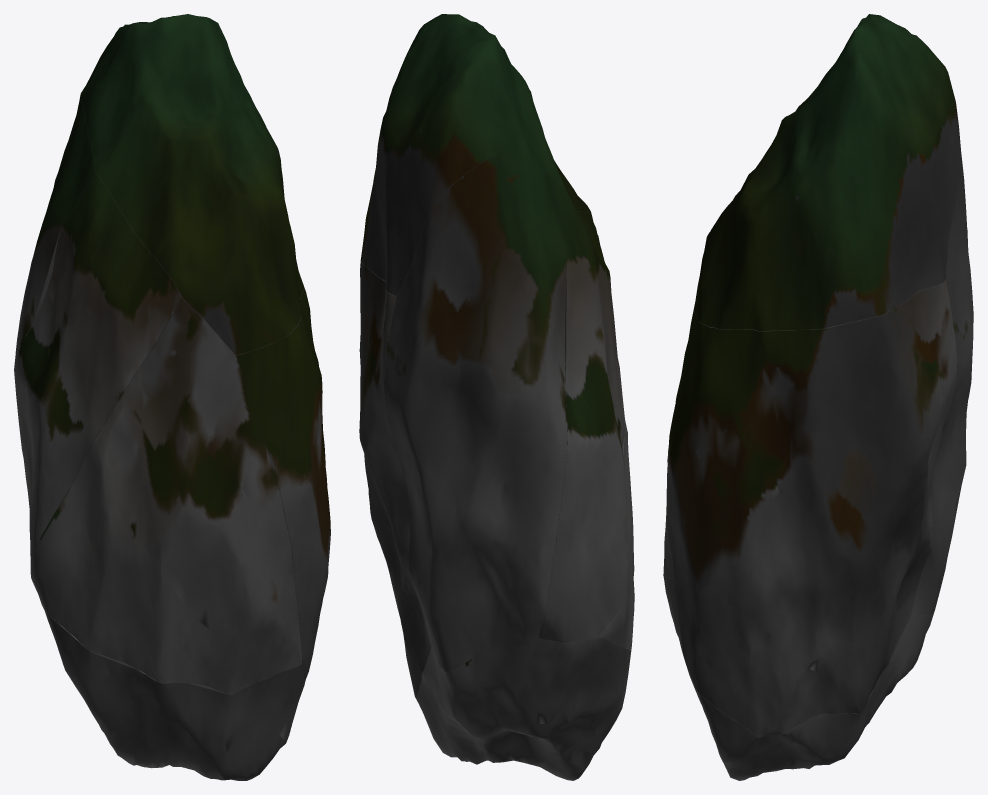
The model's file is island_piece_4.fbx.
The picture shows the model from 3 angles, left to right: view 1: azimuth 30°, elevation 25°; view 2: azimuth 150°, elevation 25°; view 3: azimuth 270°, elevation 25°; orthographic projection. The views are drawn at different scales.
Visible parts, largest first — view 1: rock_cell.006, rock_cell.003, rock_cell.009, rock_cell.005, rock_cell, rock_cell.011; view 2: rock_cell.011, rock_cell.003, rock_cell.009, rock_cell.005, rock_cell, rock_cell.006; view 3: rock_cell, rock_cell.003, rock_cell.005, rock_cell.011, rock_cell.006.
Part boxes in pixels (x1=…): rock_cell.006: x1=30, y1=299, x2=302, y2=694; rock_cell.003: x1=81, y1=14, x2=304, y2=355; rock_cell.009: x1=15, y1=174, x2=182, y2=562; rock_cell.005: x1=38, y1=594, x2=305, y2=780; rock_cell: x1=236, y1=261, x2=330, y2=680; rock_cell.011: x1=14, y1=93, x2=96, y2=425; rock_cell.011: x1=384, y1=156, x2=567, y2=671; rock_cell.003: x1=361, y1=14, x2=590, y2=295; rock_cell.009: x1=538, y1=182, x2=629, y2=642; rock_cell.005: x1=416, y1=636, x2=631, y2=780; rock_cell: x1=359, y1=259, x2=430, y2=697; rock_cell.006: x1=599, y1=366, x2=634, y2=649; rock_cell: x1=666, y1=279, x2=957, y2=737; rock_cell.003: x1=694, y1=14, x2=961, y2=331; rock_cell.005: x1=685, y1=613, x2=933, y2=780; rock_cell.011: x1=911, y1=158, x2=973, y2=615; rock_cell.006: x1=663, y1=341, x2=688, y2=659.
Bounding box in the file's own units: 297 × 821 × 309.
Materials: 1 (1 with a texture image).
